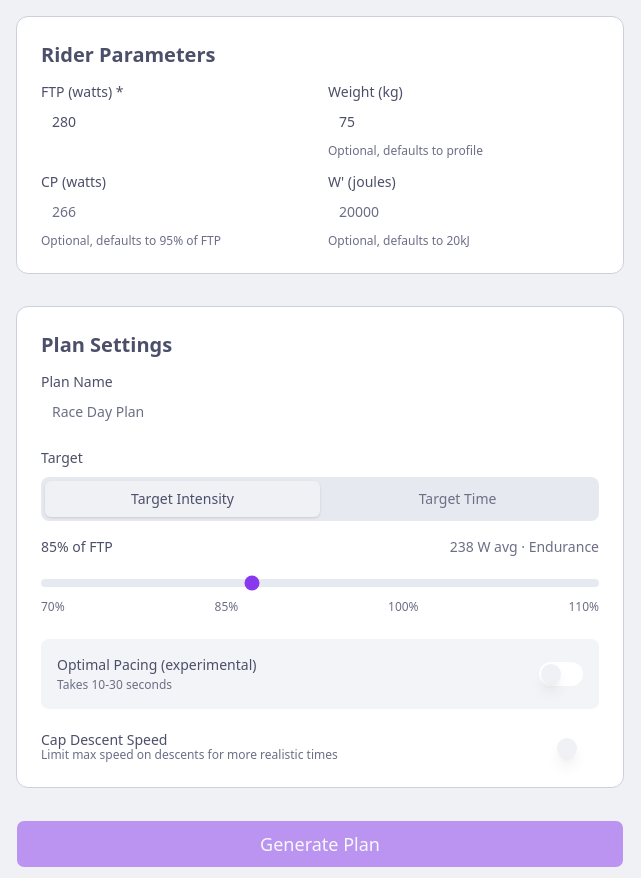
GeneratePlan › Optimizer Toggle › shows explanatory copy when optimizer is enabled
(page scrolled)
expect the number field showing "280" is shown: met, box [41, 105, 312, 137]
// Enable optimizer using Testing Library query
Click the switch named "Optimal Pacing" in the row of "Optimal Pacing (experimental)".
click(561, 674)  # box [539, 662, 583, 686]
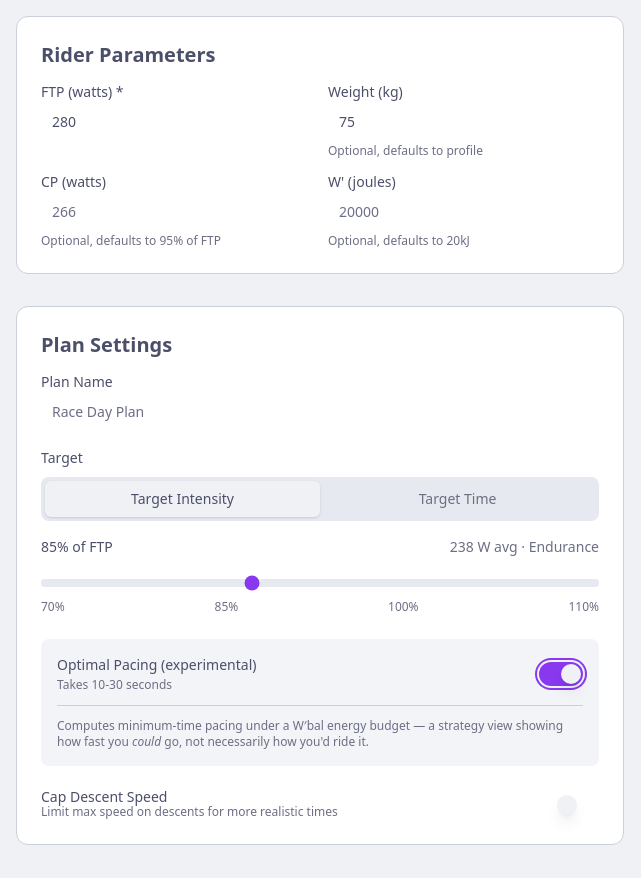
expect the text "strategy view" is shown: met, box [57, 717, 563, 750]
